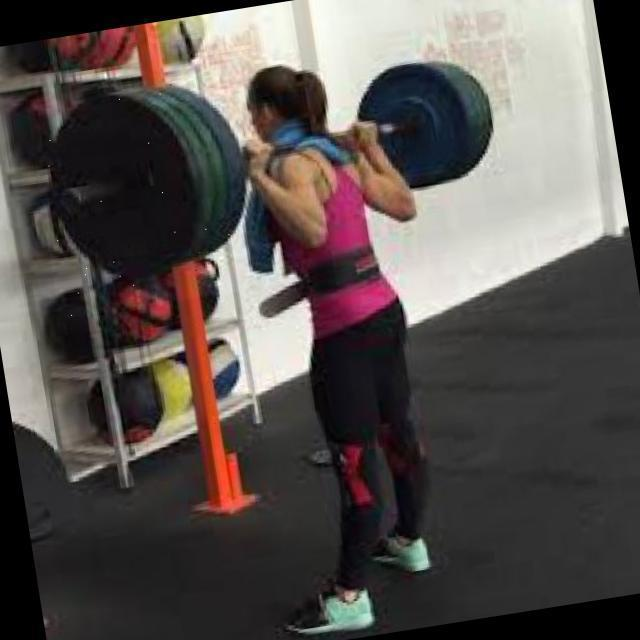barbell: (26, 72, 242, 321)
